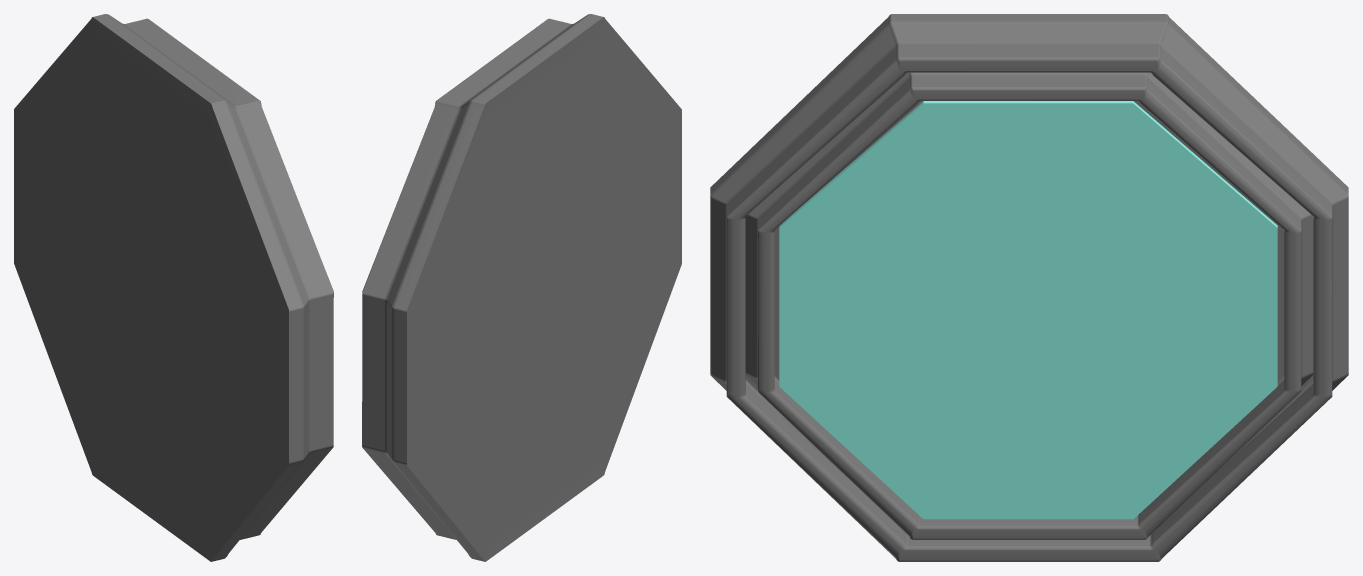
File: Signage_04.obj
3 renders of one model, left to right at view 1: azimuth 30°, elevation 25°; view 2: azimuth 150°, elevation 25°; view 3: azimuth 270°, elevation 25°, orthographic. The views are drawn at different scales.
Visible parts, largest first — view 1: Signage_04; view 2: Signage_04; view 3: Signage_04.
Boxes of the visible parts, <box> form: Signage_04: <box>14,14,333,561</box>; Signage_04: <box>362,14,681,561</box>; Signage_04: <box>710,14,1348,561</box>.
Bounding box in the file's own units: 49.19 × 356 × 386.
